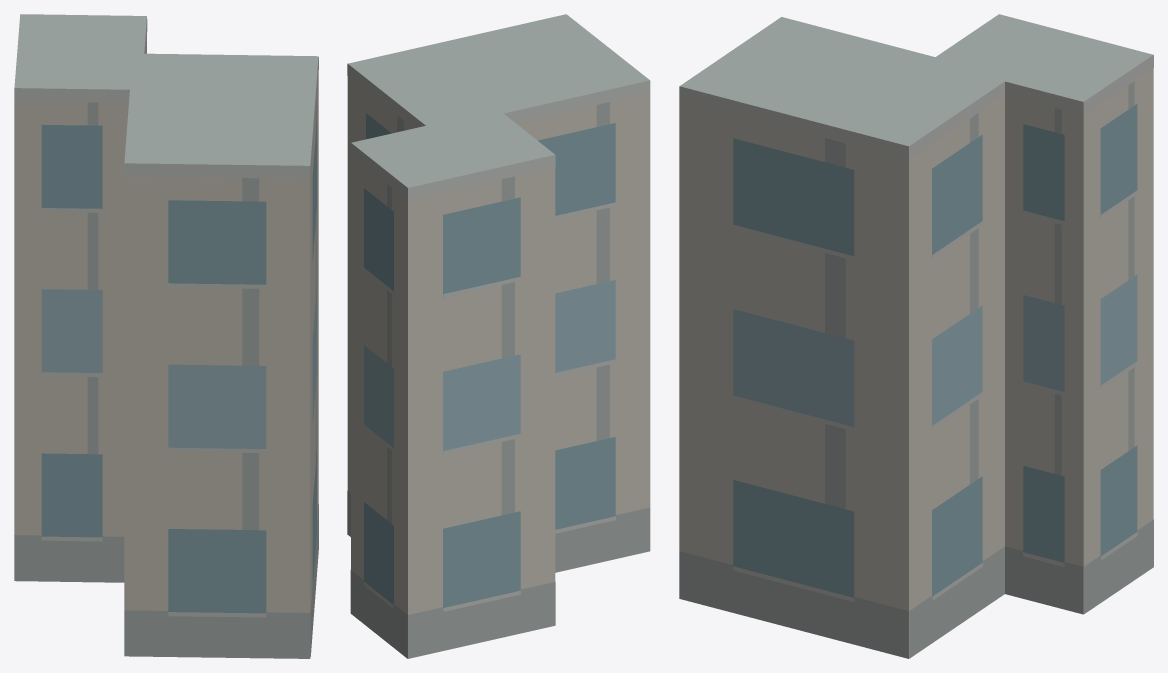
File: survey-upis-32821682.glb
The picture shows the model from 3 angles, left to right: view 1: azimuth 30°, elevation 25°; view 2: azimuth 150°, elevation 25°; view 3: azimuth 270°, elevation 25°; orthographic projection. The views are drawn at different scales.
Visible parts, largest first — view 1: survey-upis-32821682.tmp; view 2: survey-upis-32821682.tmp; view 3: survey-upis-32821682.tmp.
Boxes of the visible parts, <box> form: survey-upis-32821682.tmp: <box>14,14,318,658</box>; survey-upis-32821682.tmp: <box>347,14,650,658</box>; survey-upis-32821682.tmp: <box>679,14,1153,658</box>.
Size of the model in its own units: 5.08 by 9.15 by 7.68.
